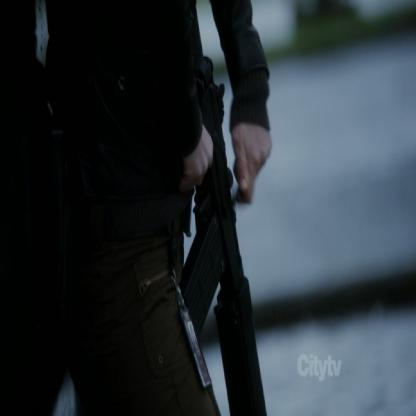Gun: (176, 38, 268, 415)
